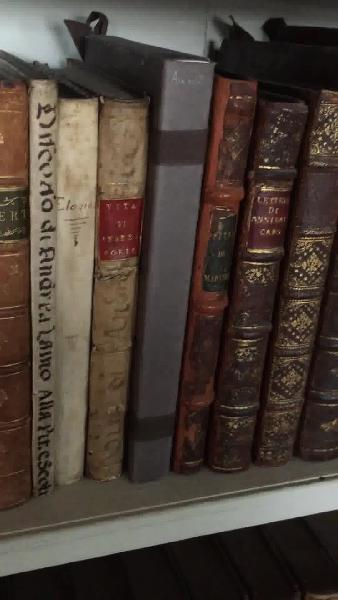Aa6-24: (30, 75, 64, 499)
Aa6-25: (58, 98, 93, 490)
Aa6-26: (95, 80, 143, 494)
Aa6-27: (132, 41, 204, 482)
Aa6-28: (169, 33, 247, 491)
Aa6-29: (218, 54, 303, 477)
Aa6-30: (250, 59, 329, 474)
